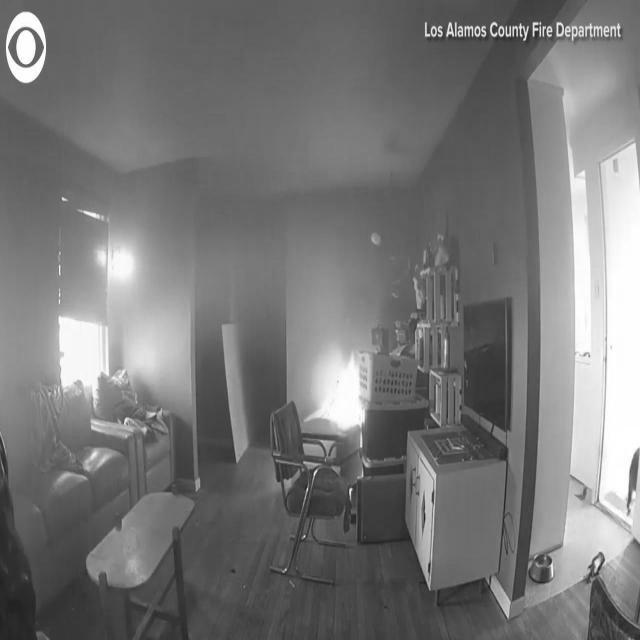smoke: (316, 348, 368, 426)
